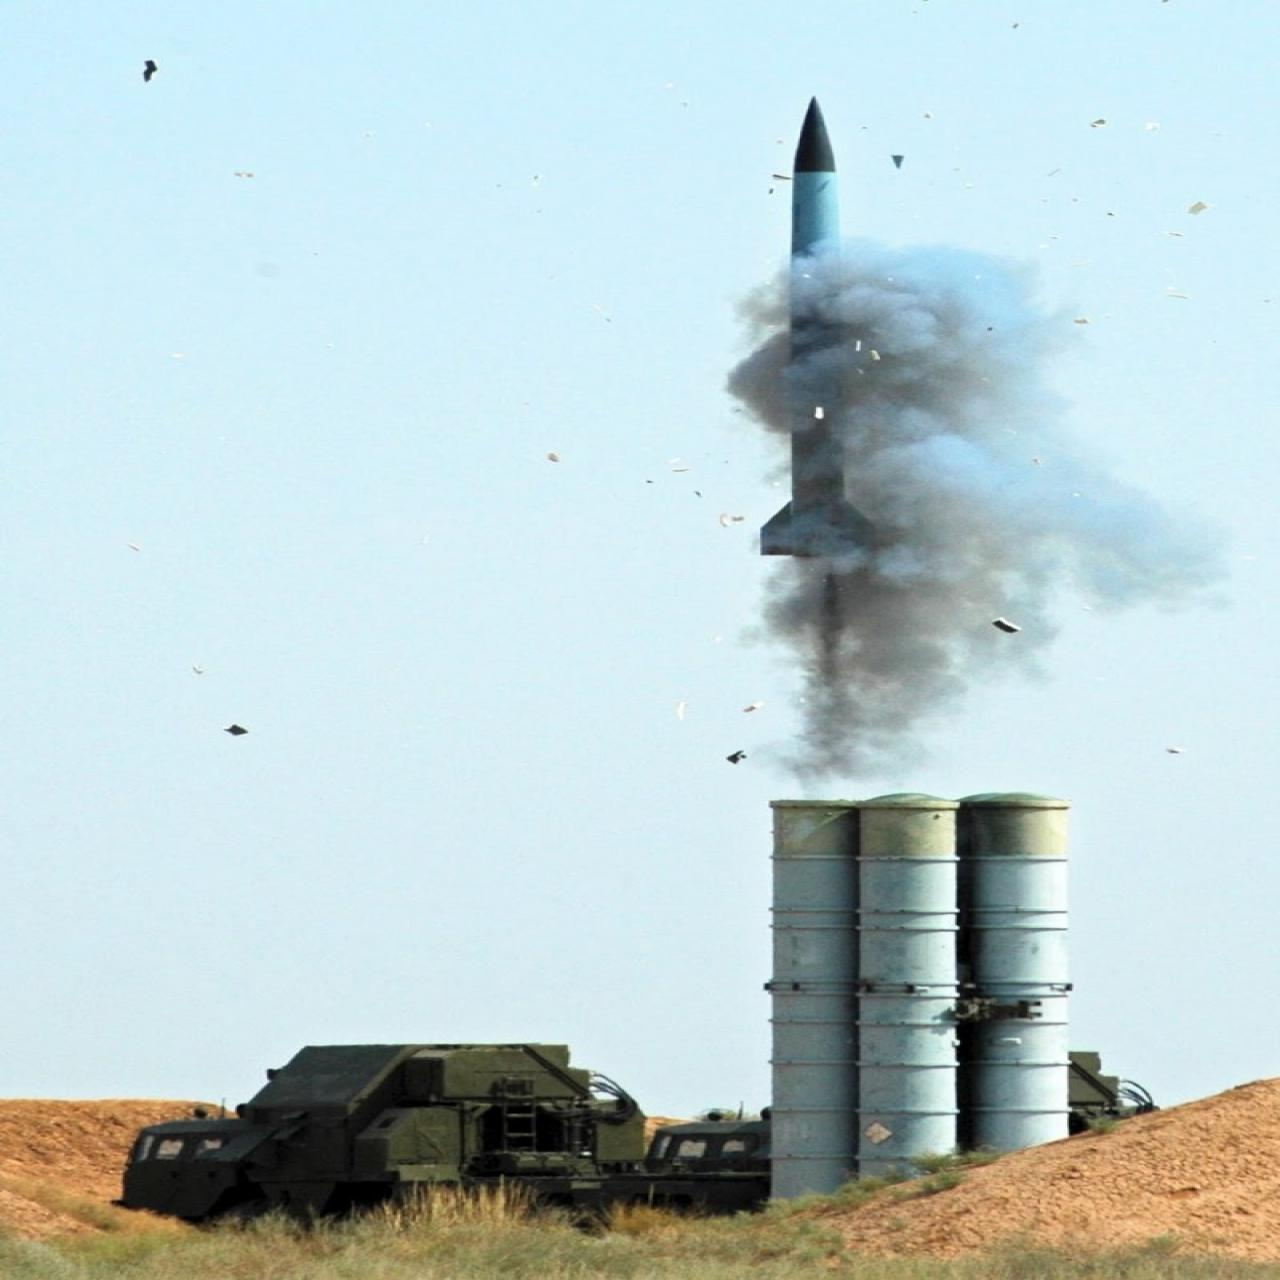MIL_Veh: (135, 787, 1073, 1231)
